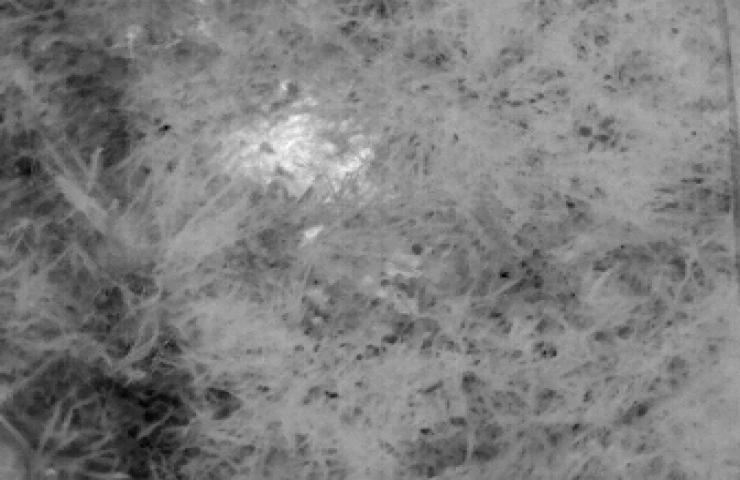landmines: (225, 111, 351, 194)
